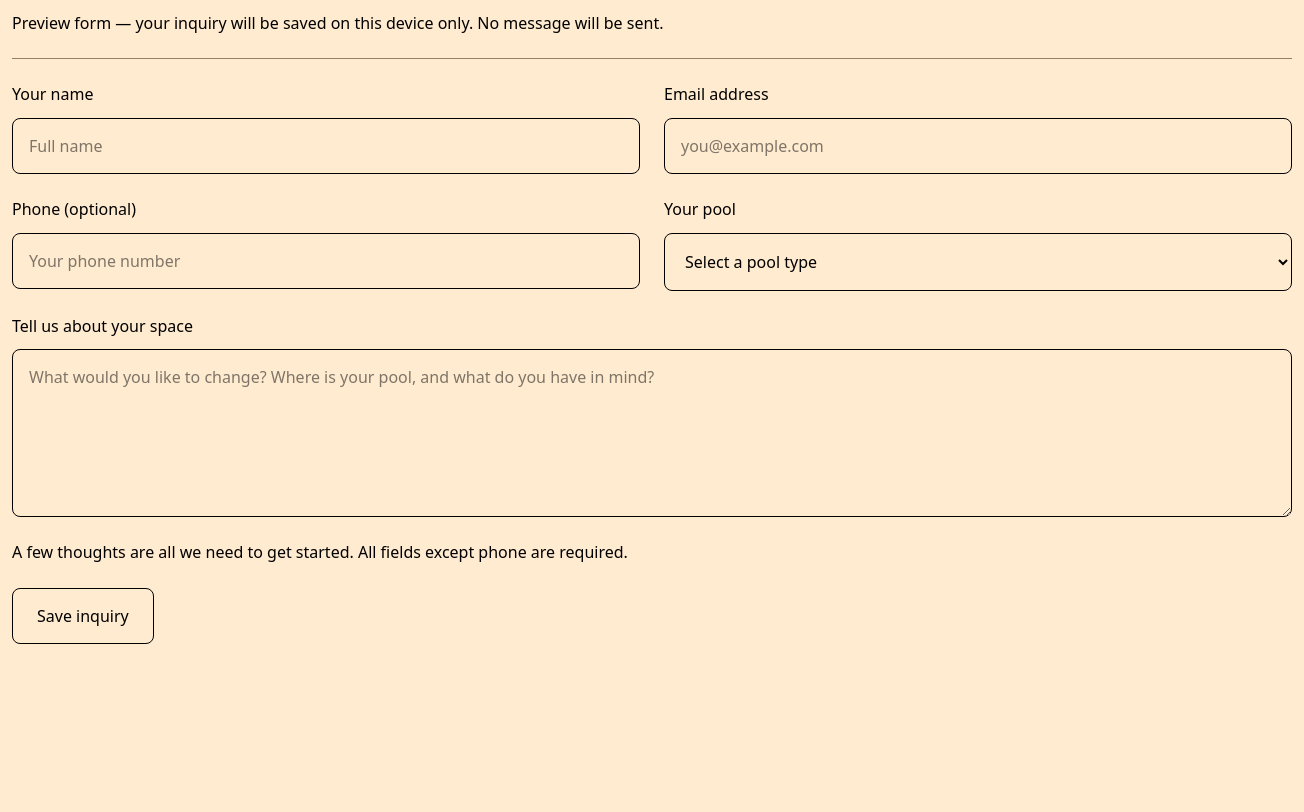
Test: inquiry form › rejects invalid details and focuses the first invalid field
Click the button "Save inquiry": {"x": 83, "y": 616} [12,588,154,644]
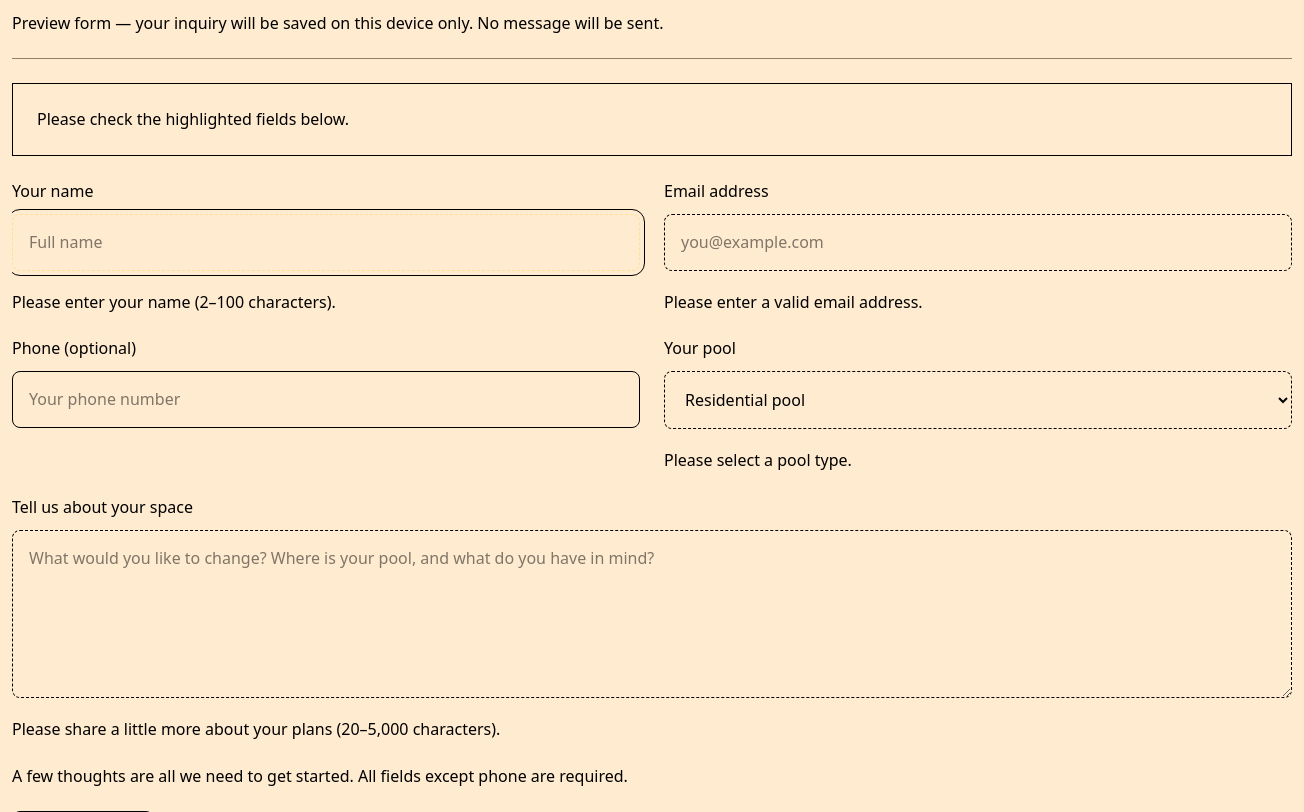
Now the message shows "Please check", box [37,108,349,130]
